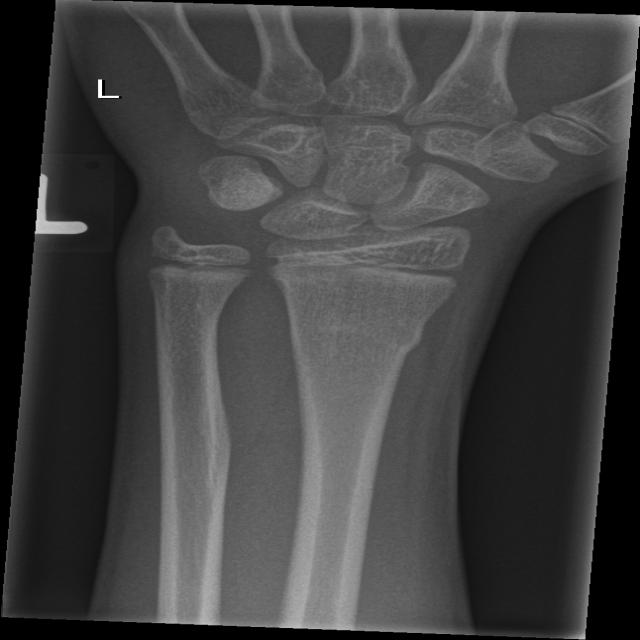radius fracture: (374, 291, 471, 417)
